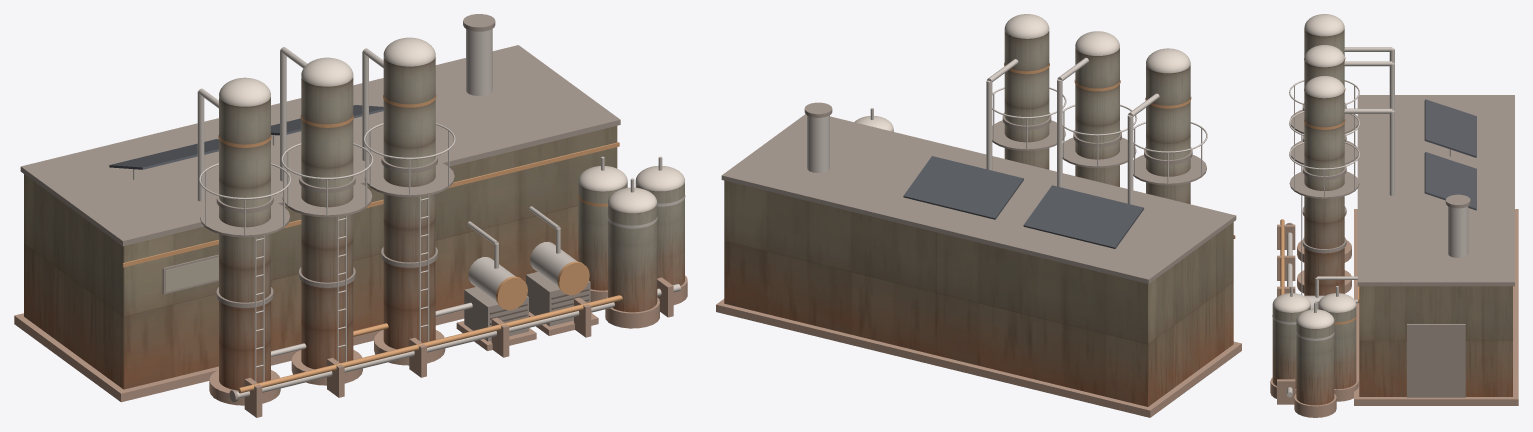
Rendered from E12_fuel_plant_small.glb.
3 views of the same model, side by side, from view 1: azimuth 30°, elevation 25°; view 2: azimuth 150°, elevation 25°; view 3: azimuth 270°, elevation 25° (orthographic). The views are drawn at different scales.
Parts seen in each view (by area): view 1: process_hall, roof_edge, column, object 5, foundation, storage_tank, window_strip; view 2: process_hall, roof_edge, column, foundation, object 5; view 3: roof_edge, process_hall, column, storage_tank, foundation, object 5.
Boxes of the visible parts, box(x1,y1,x2,y2) form: process_hall: box(24, 37, 684, 393); roof_edge: box(20, 14, 620, 402); column: box(219, 57, 435, 390); object 5: box(133, 29, 685, 398); foundation: box(14, 275, 687, 417); storage_tank: box(578, 182, 684, 312); window_strip: box(165, 257, 218, 291); process_hall: box(724, 14, 1235, 406); roof_edge: box(721, 102, 1236, 283); column: box(1004, 31, 1190, 204); foundation: box(716, 299, 1241, 417); object 5: box(807, 57, 1207, 238); roof_edge: box(1286, 95, 1514, 397); process_hall: box(1272, 14, 1512, 396); column: box(1304, 28, 1344, 295); storage_tank: box(1272, 306, 1356, 405); foundation: box(1270, 209, 1518, 417); object 5: box(1272, 47, 1468, 397).
Size of the model in its own units: 13.08 by 7.18 by 6.78.
8 materials, 3 textured.
